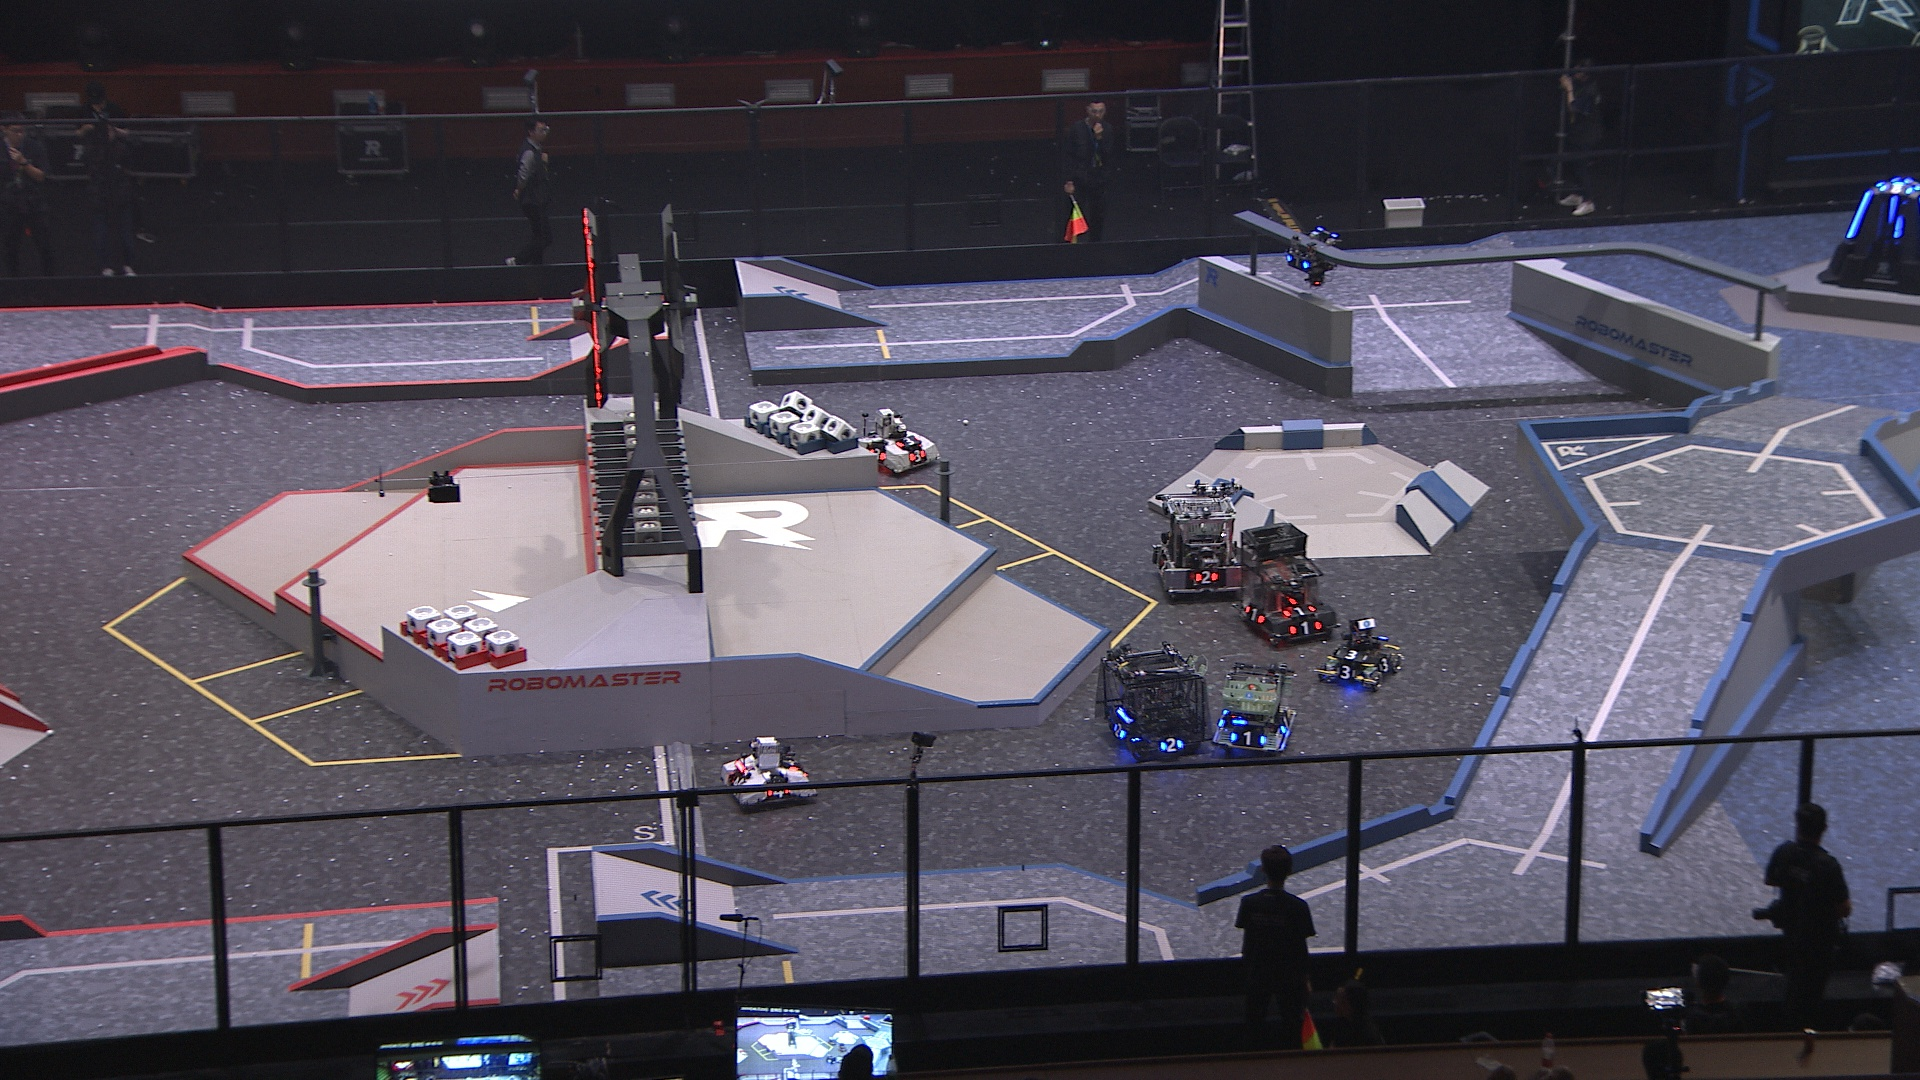armor: (1844, 190, 1871, 237), (1228, 731, 1267, 749), (1335, 647, 1367, 665), (1287, 618, 1320, 636), (1879, 181, 1915, 196), (1158, 736, 1185, 756), (1242, 604, 1266, 626), (1192, 568, 1221, 585), (1888, 214, 1907, 240), (1283, 255, 1313, 270), (1282, 603, 1316, 616), (1333, 665, 1358, 680), (764, 785, 790, 799), (866, 446, 887, 462), (727, 773, 746, 789), (1112, 721, 1127, 740), (781, 756, 799, 770), (895, 436, 920, 447), (1278, 713, 1290, 735), (1378, 655, 1391, 674), (906, 450, 924, 463)
base: (1813, 177, 1920, 301)
car: (1095, 645, 1211, 760), (1233, 524, 1338, 646), (1149, 489, 1245, 603), (717, 733, 823, 811), (1209, 665, 1299, 756), (1313, 618, 1400, 692), (855, 405, 938, 476)
watcher: (1282, 224, 1342, 289)
